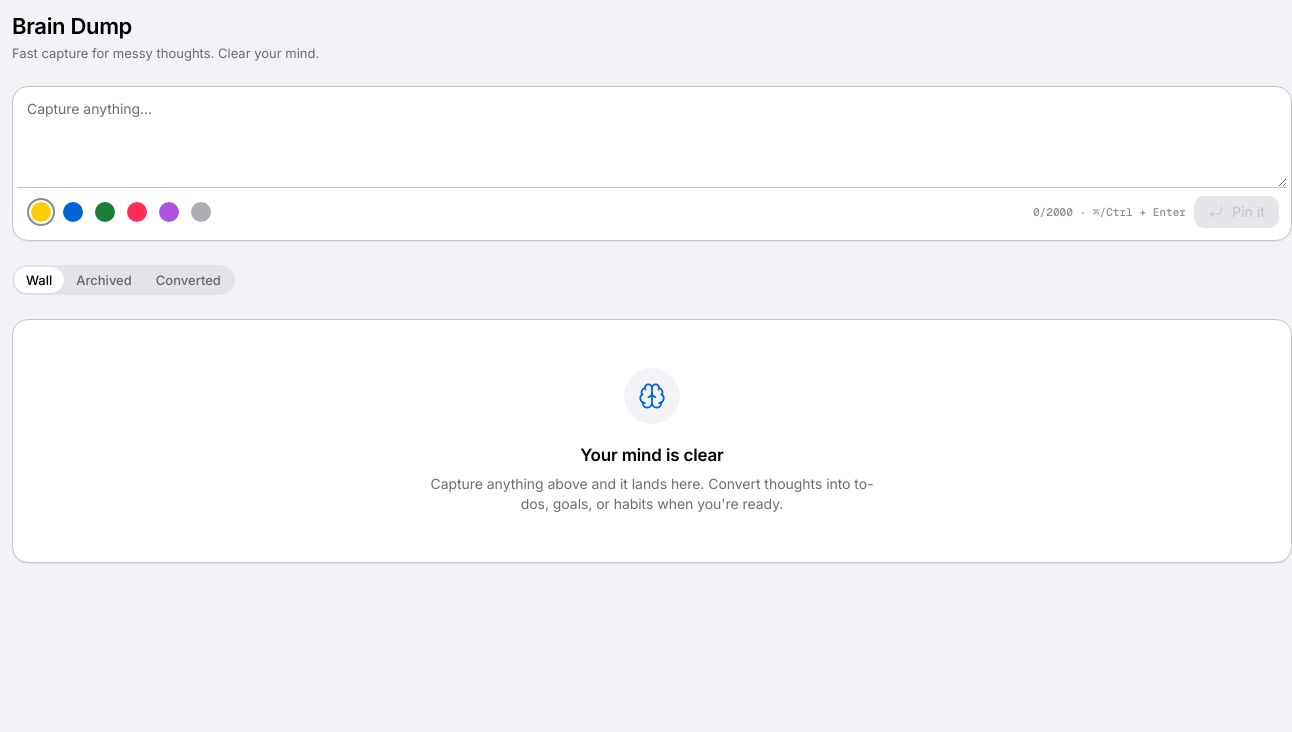
Test: Brain Dump rapid capture › recovers the form when the action rejects
This screenshot has width=1292, height=732.
Type "a thought that fails" into the text box named "Capture a thought".
click(652, 139); type("a thought that fails")  # box [17,91,1287,187]
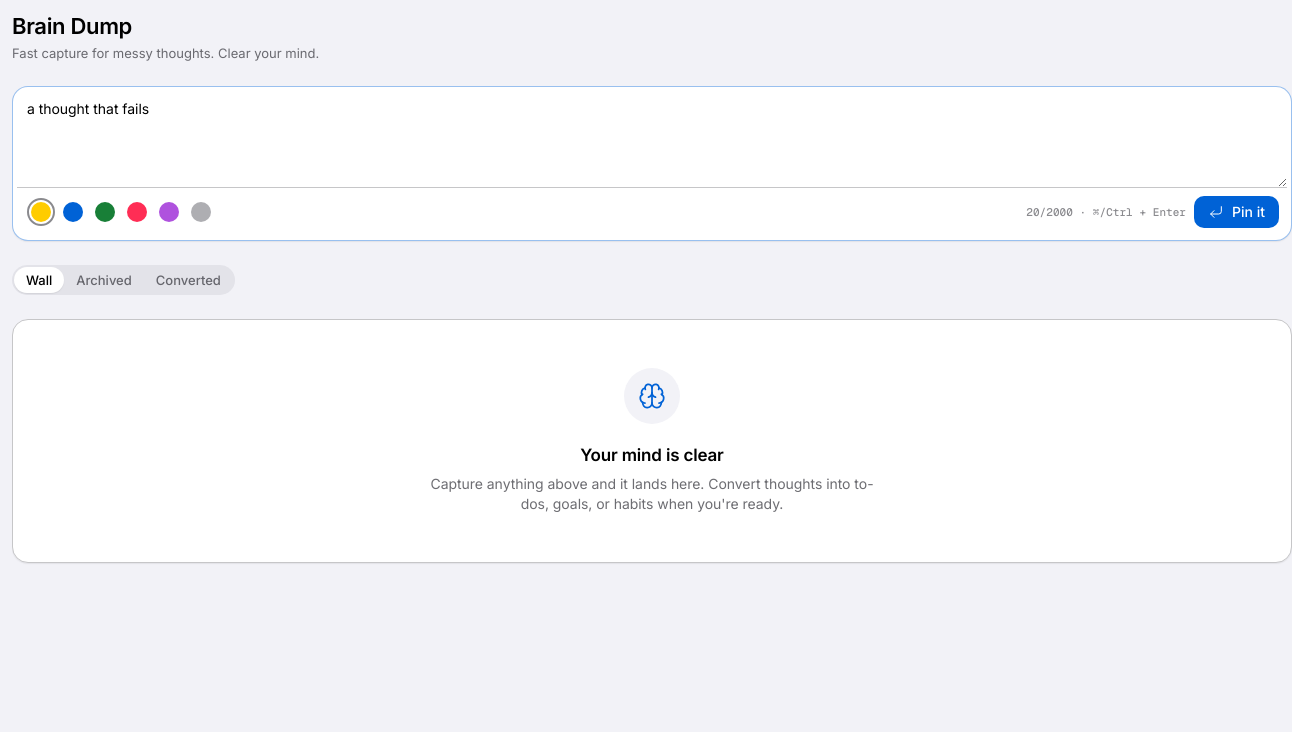
Click the button "Pin it".
click(1236, 212)  # box [1194,196,1279,228]
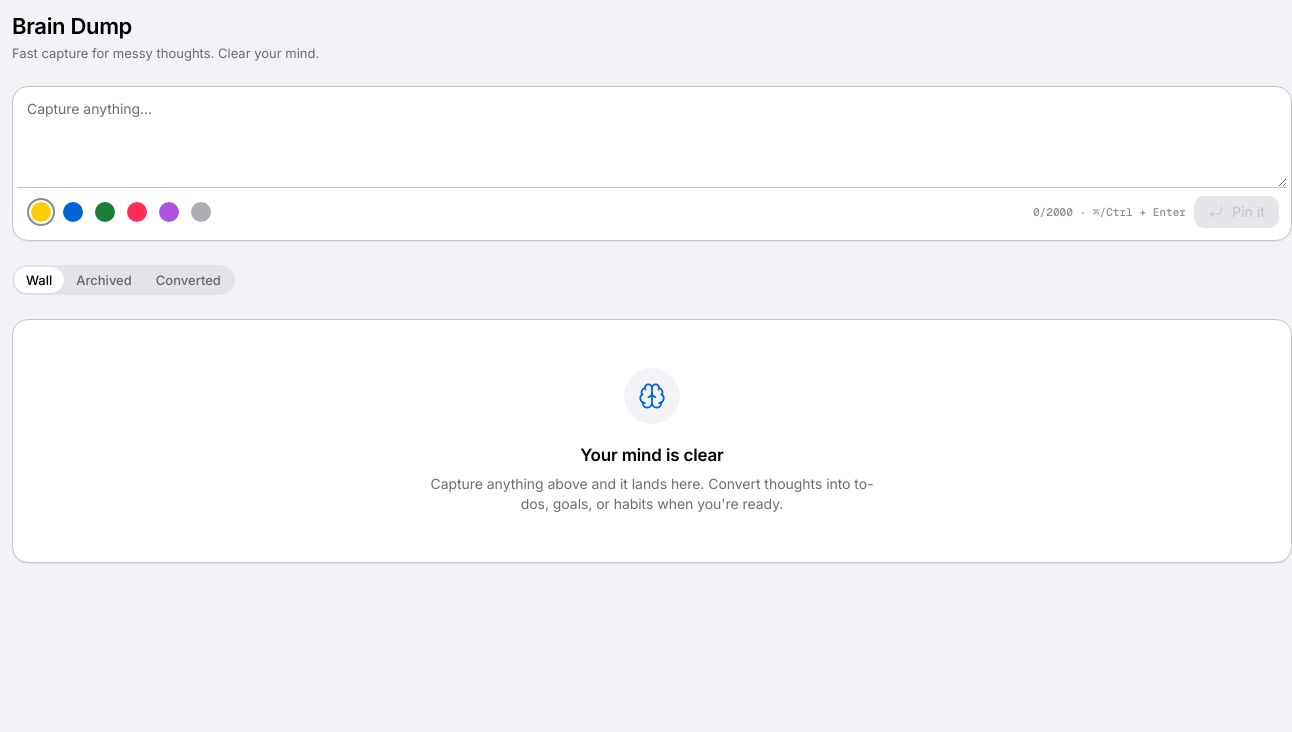
Type "recovered" into the text box named "Capture a thought".
click(652, 139); type("recovered")  # box [17,91,1287,187]
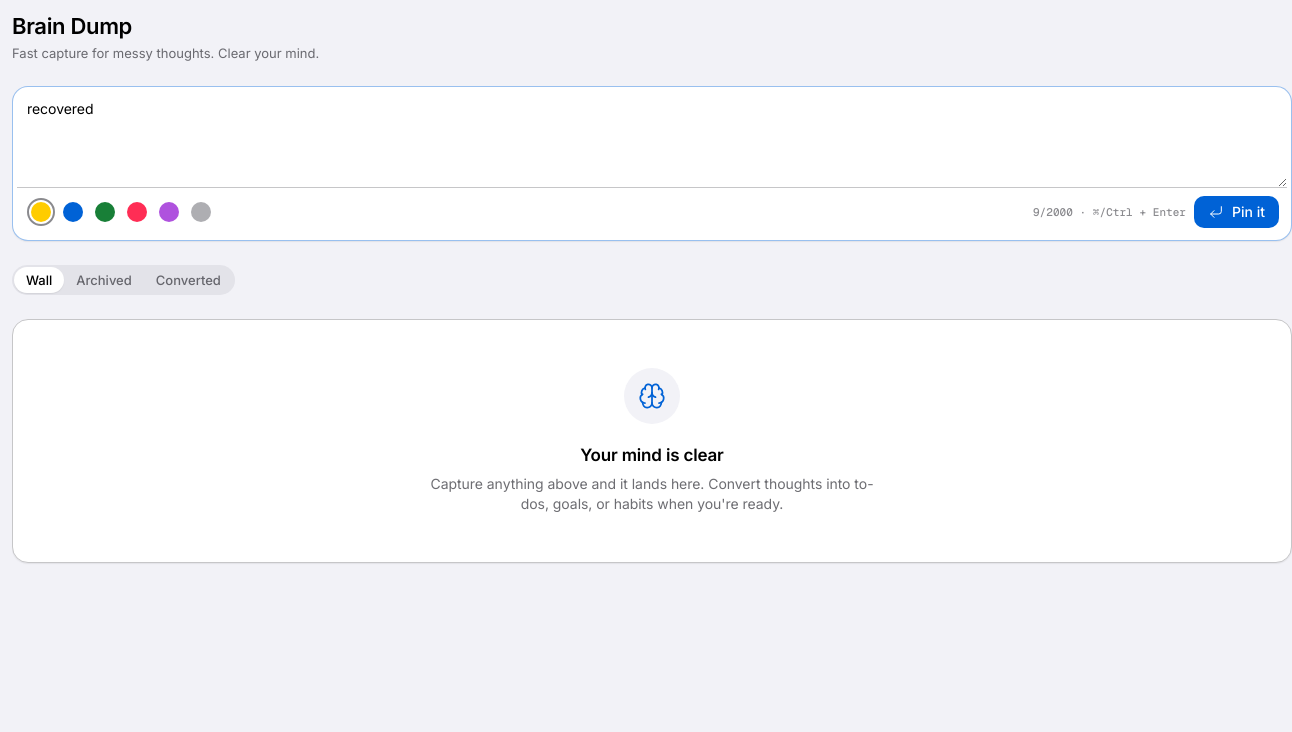
Result: the button "Pin it" is enabled at [1194,196,1279,228]
